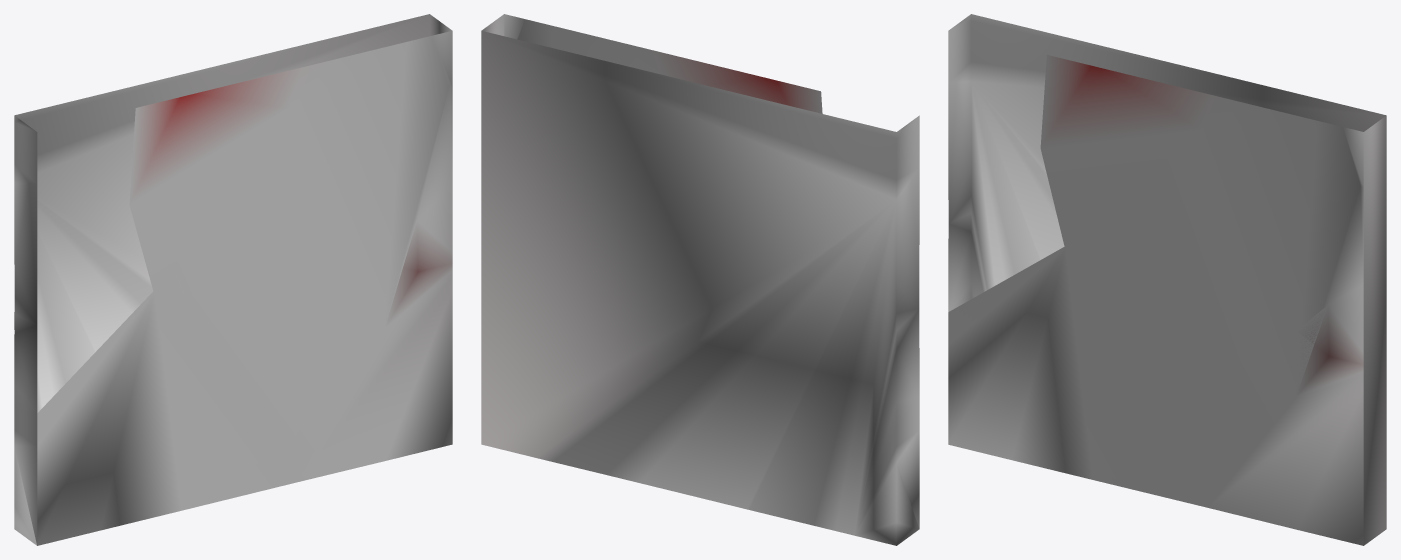
Rendered from SM_FA_Factory_W210_H200.fbx.
The picture shows the model from 3 angles, left to right: view 1: azimuth 30°, elevation 25°; view 2: azimuth 150°, elevation 25°; view 3: azimuth 330°, elevation 25°; orthographic projection.
Parts seen in each view (by area): view 1: SM_FA_Factory_W210_H200; view 2: SM_FA_Factory_W210_H200; view 3: SM_FA_Factory_W210_H200.
Part boxes in pixels (left/top/right/bottom): SM_FA_Factory_W210_H200: left=14, top=14, right=452, bottom=545; SM_FA_Factory_W210_H200: left=481, top=14, right=919, bottom=545; SM_FA_Factory_W210_H200: left=948, top=14, right=1386, bottom=545.
Size of the model in its own units: 210 by 20 by 200.
